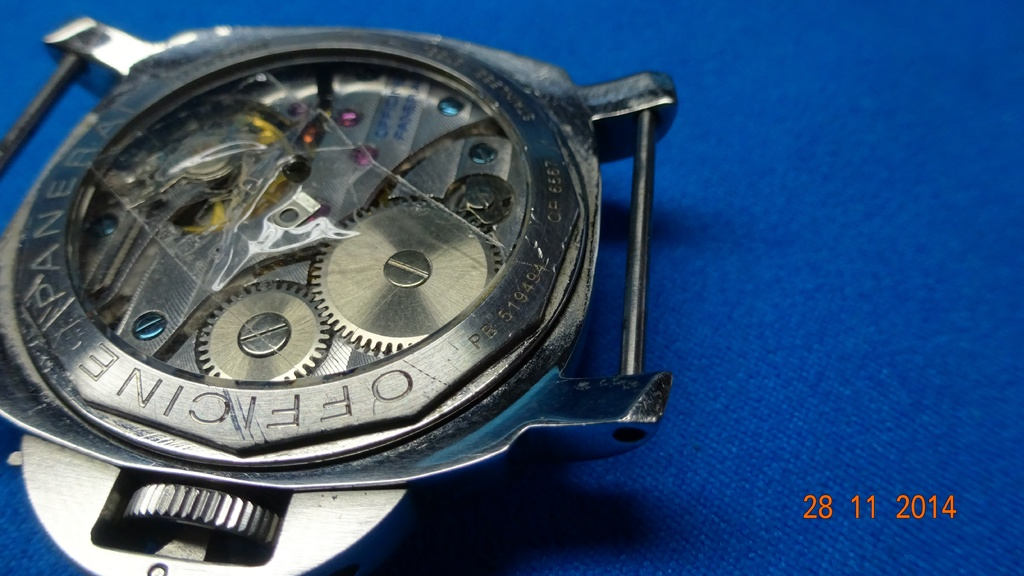watch: (0, 15, 677, 575)
